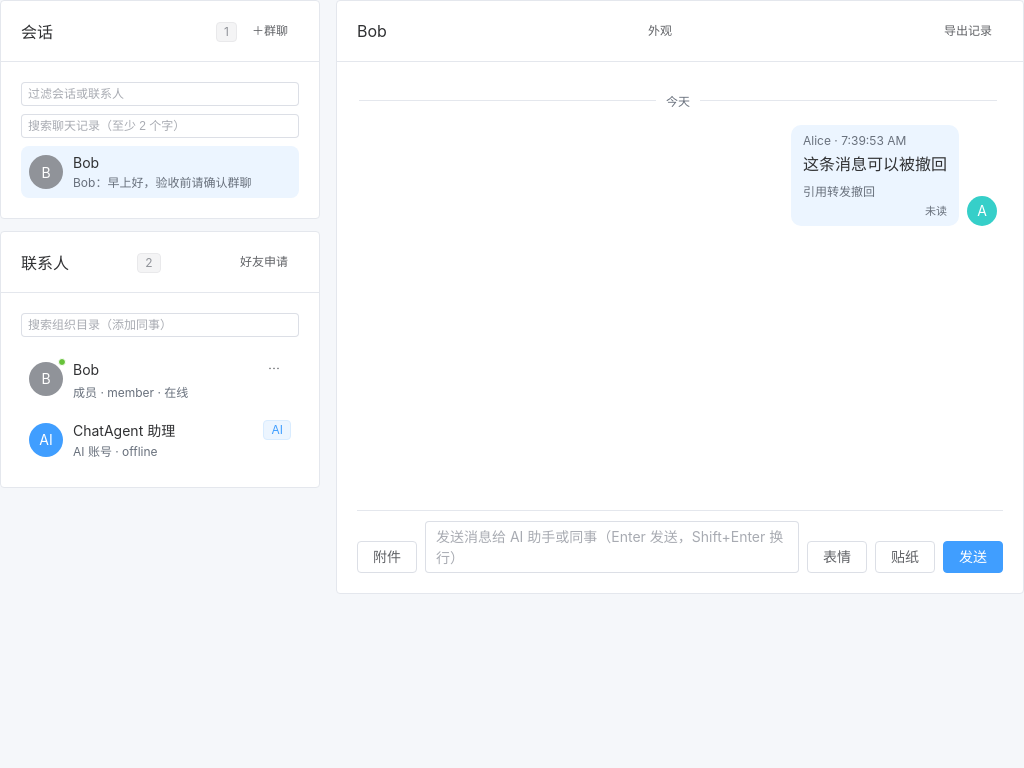
Test: ChatView › offers recall on a fresh own message and hides the body after recalling
The width and height of the screenshot is (1024, 768).
Click the button with test id "recall".
click(863, 190)  # box [851, 182, 875, 199]
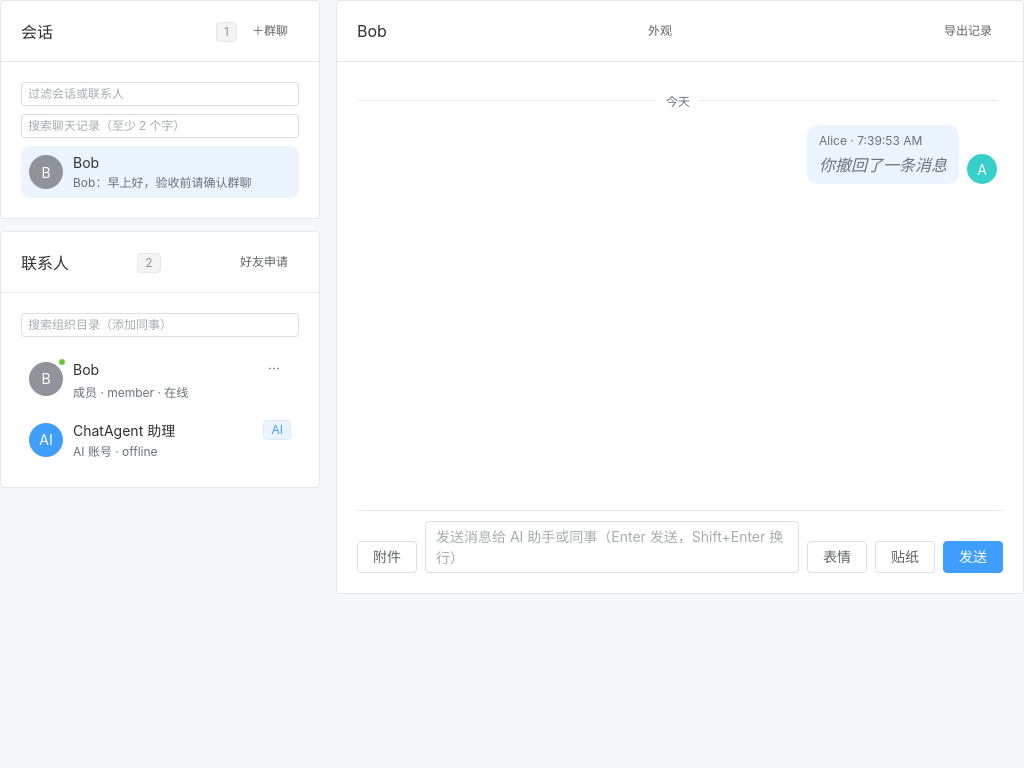
Expected: the text "你撤回了一条消息" is shown, [819, 152, 947, 176]
Expected: the text "这条消息可以被撤回" is gone
